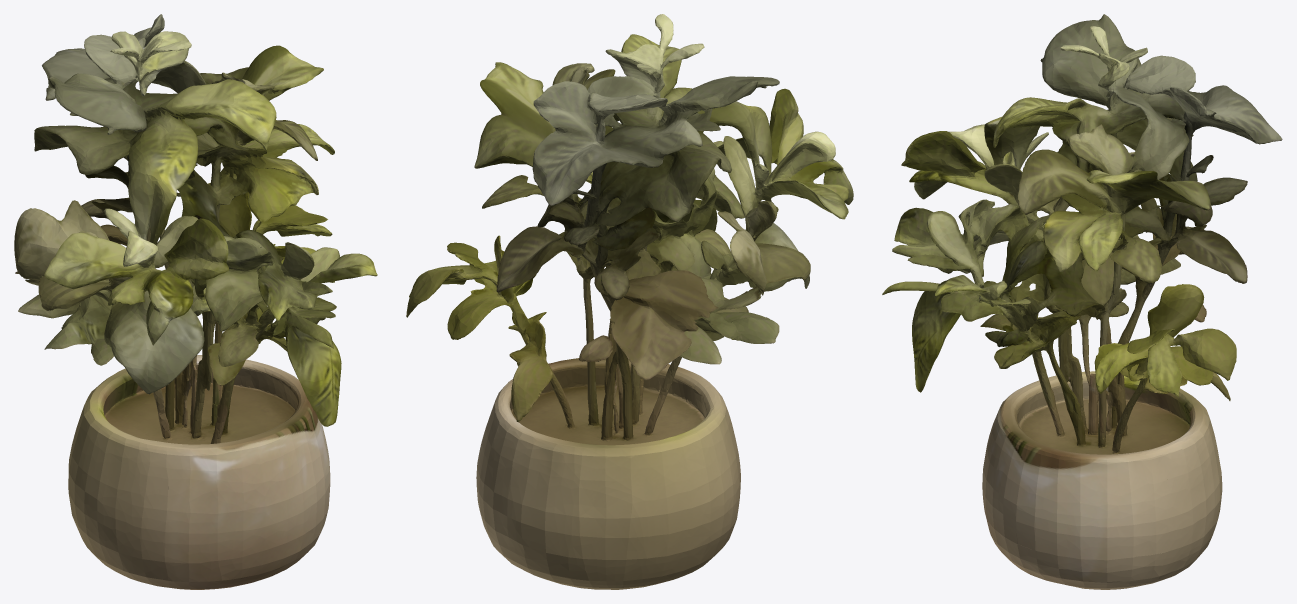
File: potted_plant.glb
3 renders of one model, left to right at view 1: azimuth 30°, elevation 25°; view 2: azimuth 150°, elevation 25°; view 3: azimuth 270°, elevation 25°, orthographic. The views are drawn at different scales.
Parts seen in each view (by area): view 1: geometry_0; view 2: geometry_0; view 3: geometry_0.
Boxes of the visible parts, box(x1,y1,x2,y2) form: geometry_0: box(14, 14, 377, 589); geometry_0: box(406, 14, 853, 589); geometry_0: box(882, 14, 1282, 589).
Bounding box in the file's own units: 0.6992 × 0.998 × 0.7331.
1 material, 1 textured.
